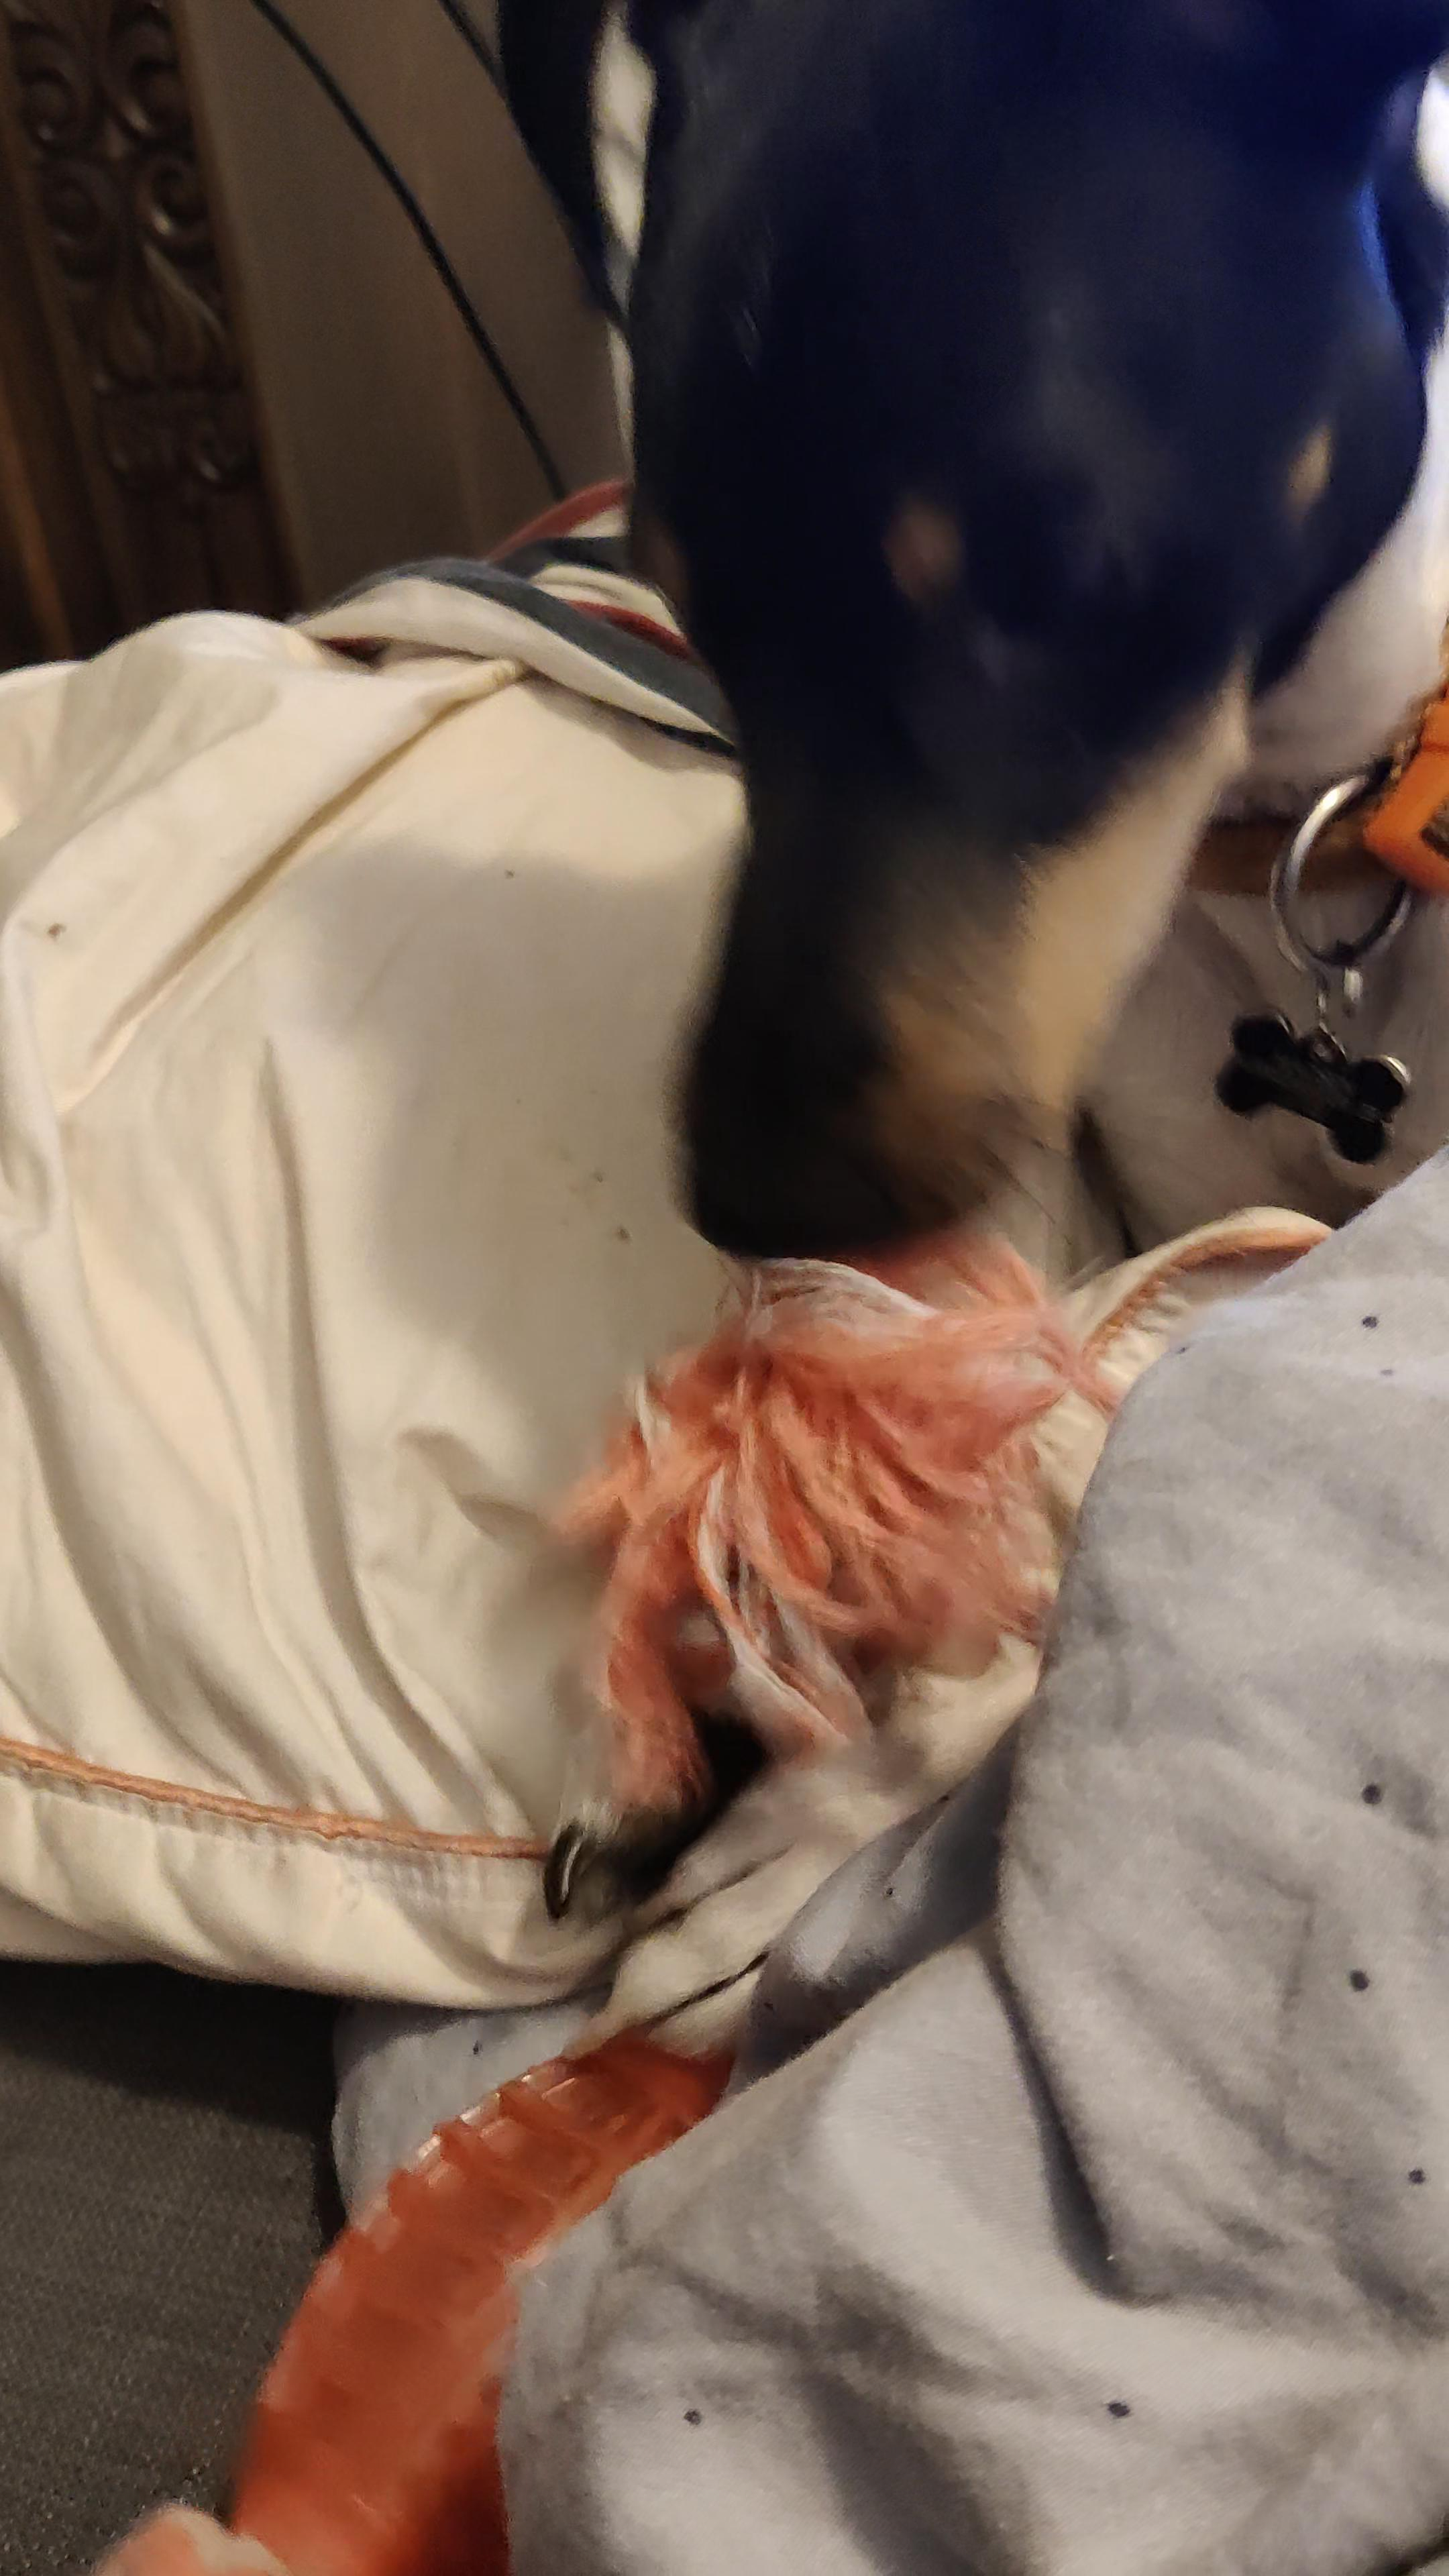Dog: (456, 0, 1449, 2135)
